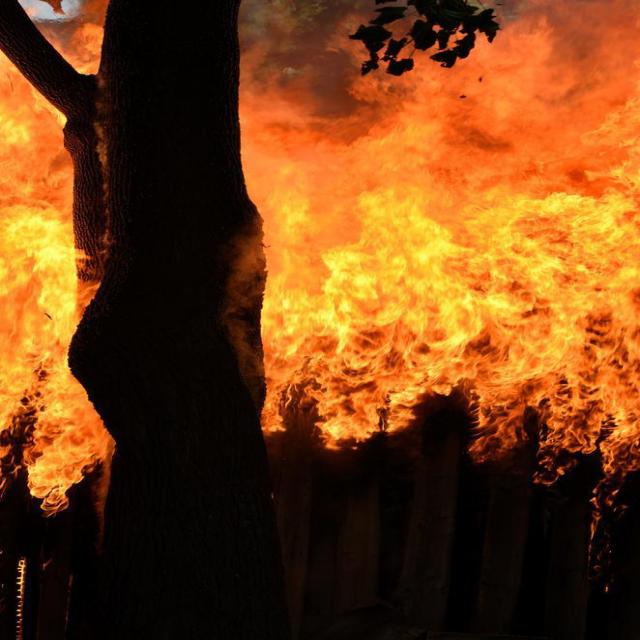fire: (244, 60, 638, 438), (2, 23, 106, 502)
